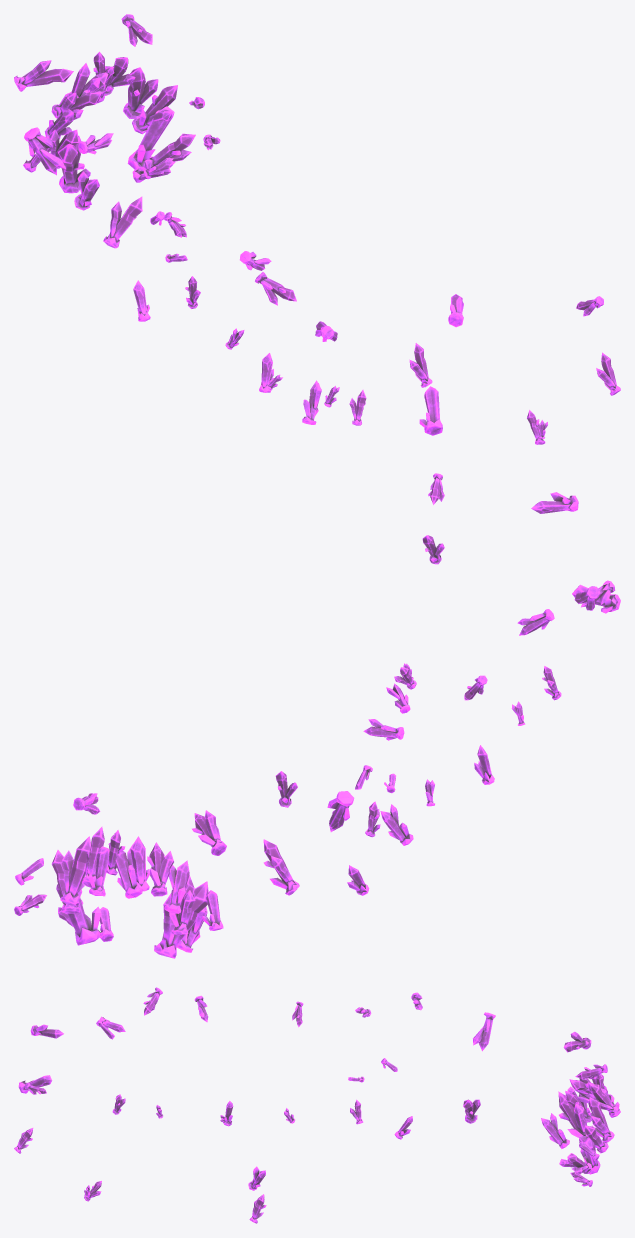
Rendered from Crystals.glb.
3 views of the same model, one above another, from view 1: azimuth 30°, elevation 25°; view 2: azimuth 150°, elevation 25°; view 3: azimuth 270°, elevation 25° (orthographic). The views are drawn at different scales.
Parts seen in each view (by area): view 1: Cube.078, Cube.079, Cube.072, Cube.069, Cube.054, Cube.052, Cube.056, Cube.070, Cube.041, Cube.075, Cube.048, Cube.073; view 2: Cube.072, Cube.078, Cube.069, Cube.075, Cube.054, Cube.052, Cube.083, Cube.076, Cube.077, Cube.056, Cube.080, Cube.050; view 3: Cube.072, Cube.078, Cube.073, Cube.056, Cube.074, Cube.079, Cube.052.
Boxes of the visible parts, x1=… form: Cube.078: x1=123, y1=67, x2=158, y2=118; Cube.079: x1=132, y1=85, x2=177, y2=134; Cube.072: x1=58, y1=136, x2=90, y2=193; Cube.069: x1=127, y1=106, x2=174, y2=170; Cube.054: x1=103, y1=196, x2=142, y2=248; Cube.052: x1=14, y1=60, x2=73, y2=91; Cube.056: x1=24, y1=127, x2=65, y2=175; Cube.070: x1=144, y1=133, x2=195, y2=168; Cube.041: x1=419, y1=386, x2=442, y2=435; Cube.075: x1=51, y1=89, x2=101, y2=118; Cube.048: x1=255, y1=272, x2=296, y2=305; Cube.073: x1=74, y1=171, x2=99, y2=210; Cube.072: x1=154, y1=881, x2=208, y2=958; Cube.078: x1=60, y1=836, x2=90, y2=906; Cube.069: x1=56, y1=884, x2=101, y2=945; Cube.075: x1=147, y1=842, x2=173, y2=896; Cube.054: x1=263, y1=839, x2=299, y2=895; Cube.052: x1=192, y1=810, x2=226, y2=855; Cube.083: x1=115, y1=844, x2=142, y2=898; Cube.076: x1=164, y1=860, x2=189, y2=913; Cube.077: x1=169, y1=875, x2=195, y2=935; Cube.056: x1=327, y1=791, x2=354, y2=831; Cube.080: x1=130, y1=836, x2=149, y2=891; Cube.050: x1=531, y1=492, x2=578, y2=513; Cube.072: x1=558, y1=1091, x2=587, y2=1143; Cube.078: x1=588, y1=1097, x2=614, y2=1142; Cube.073: x1=541, y1=1113, x2=569, y2=1148; Cube.056: x1=473, y1=1012, x2=495, y2=1051; Cube.074: x1=589, y1=1084, x2=618, y2=1116; Cube.079: x1=578, y1=1125, x2=608, y2=1153; Cube.052: x1=563, y1=1031, x2=591, y2=1052.
Bounding box in the file's own units: 16.89 × 14.33 × 47.58.
1 material, 1 textured.
